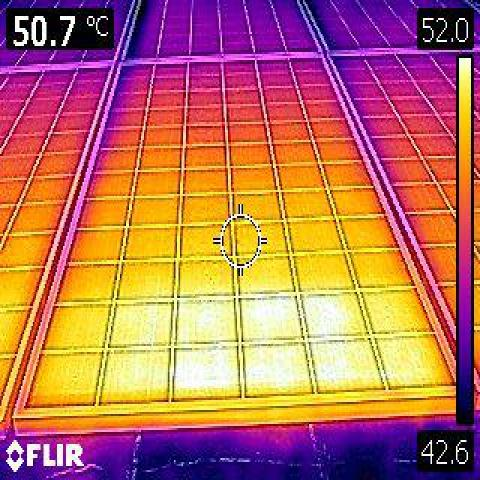fault: (121, 292, 358, 390)
